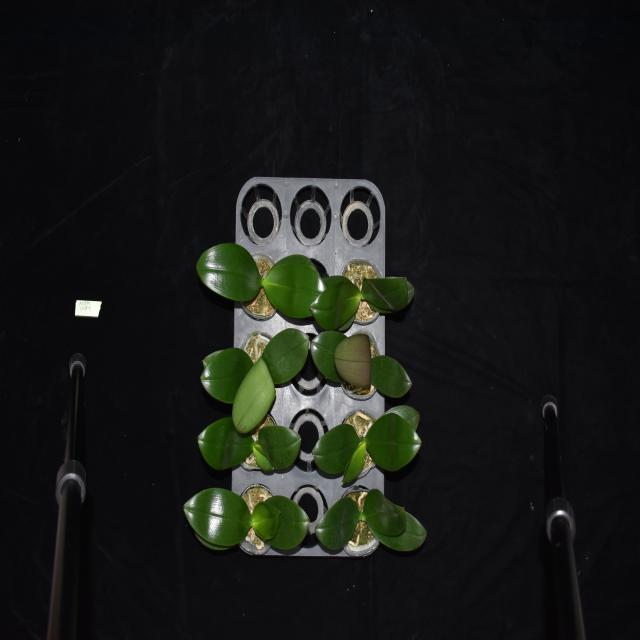leaf: (179, 489, 251, 552), (196, 242, 262, 310), (365, 490, 430, 558), (264, 244, 322, 319), (367, 409, 424, 472), (253, 496, 310, 552), (313, 332, 372, 386), (298, 278, 360, 329), (196, 418, 253, 472), (314, 425, 366, 483), (314, 491, 360, 554), (191, 351, 252, 398), (237, 356, 276, 428), (262, 326, 309, 379), (356, 276, 418, 314), (258, 426, 304, 472), (374, 354, 412, 398)
